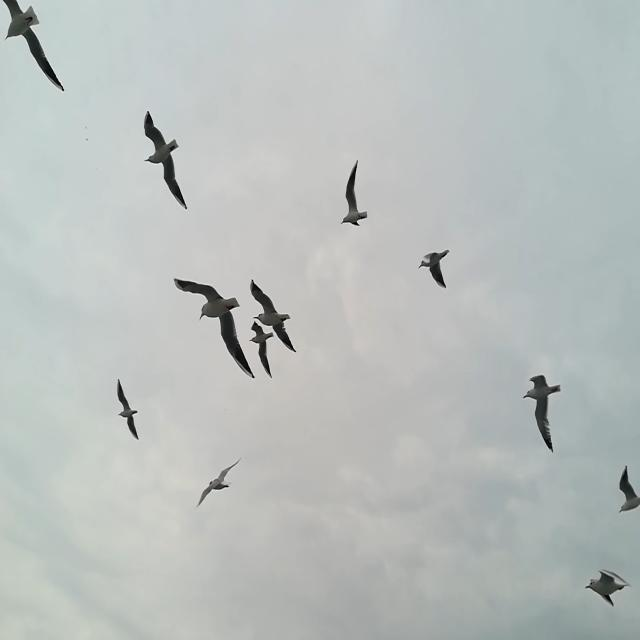bird: (174, 278, 255, 380), (2, 0, 64, 92), (140, 112, 187, 210), (250, 278, 297, 354), (522, 373, 562, 455), (197, 458, 240, 509), (584, 567, 633, 608), (339, 160, 368, 228), (116, 378, 141, 443), (249, 320, 274, 381), (418, 250, 450, 290), (617, 464, 640, 515)
